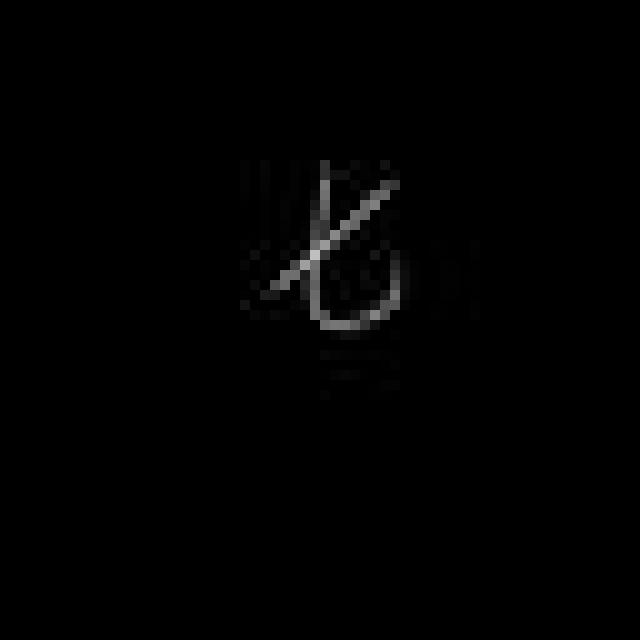7 -seven-: (253, 147, 418, 350)
